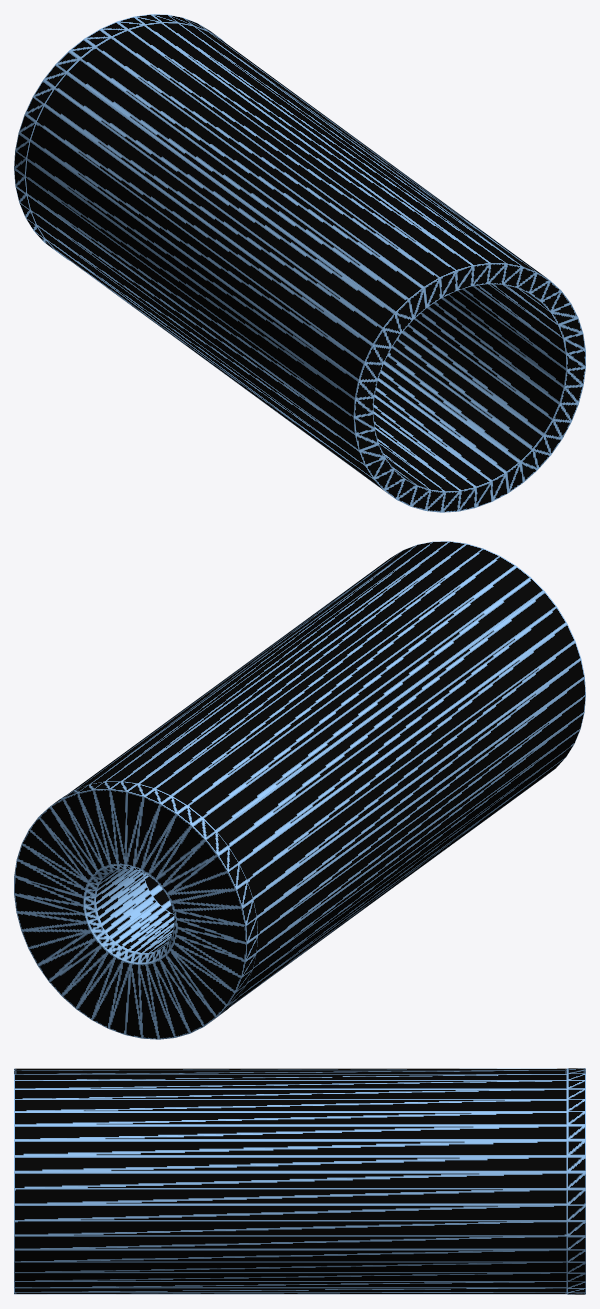
The model's file is Mold1-Guide Bush-M.glb.
3 views of the same model, one above another, from view 1: azimuth 30°, elevation 25°; view 2: azimuth 150°, elevation 25°; view 3: azimuth 270°, elevation 25° (orthographic). The views are drawn at different scales.
Parts seen in each view (by area): view 1: guide bush; view 2: guide bush; view 3: guide bush.
Part boxes in pixels (x1,y1,x2,y2): guide bush: [14, 14, 585, 512]; guide bush: [14, 541, 585, 1039]; guide bush: [14, 1068, 585, 1294].
Size of the model in its own units: 0.7087 by 0.709 by 1.79.
1 material, 1 textured.
